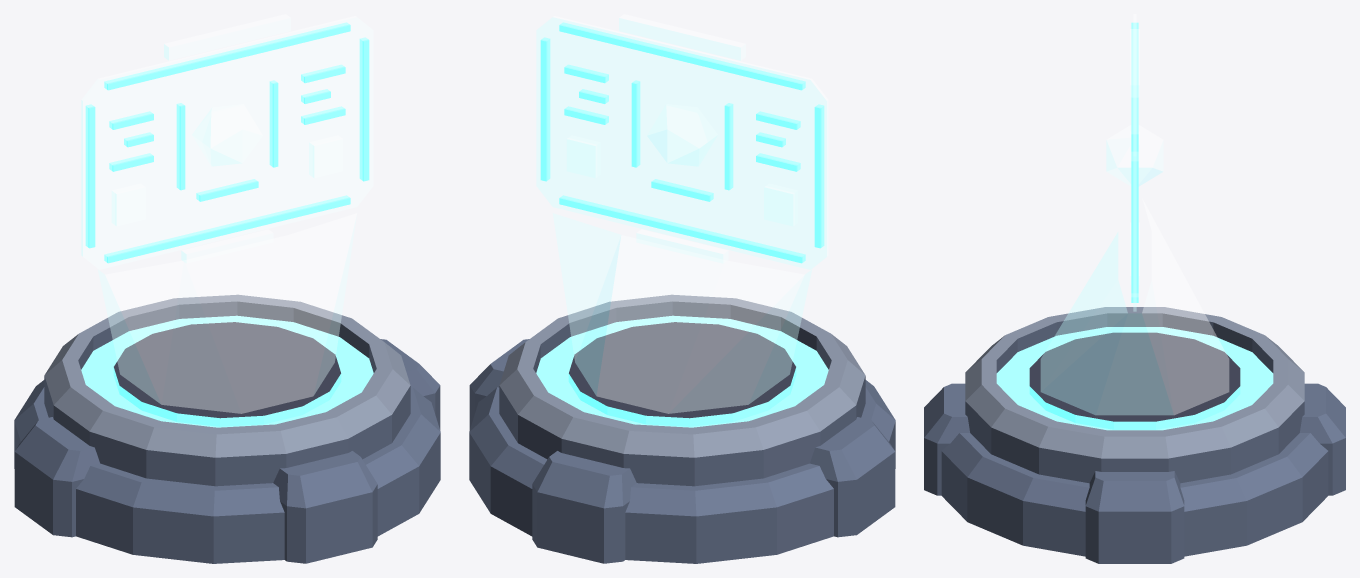
Rendered from holo-pad-ead662.glb.
3 views of the same model, side by side, from view 1: azimuth 30°, elevation 25°; view 2: azimuth 150°, elevation 25°; view 3: azimuth 270°, elevation 25° (orthographic). The views are drawn at different scales.
Parts seen in each view (by area): view 1: casing, hologram-mesh, beam, hologram-lines, glow-ring; view 2: casing, hologram-mesh, beam, hologram-lines, glow-ring; view 3: casing, beam, glow-ring, hologram-mesh, hologram-lines.
Part boxes in pixels (x1=…): casing: x1=14, y1=294, x2=440, y2=563; hologram-mesh: x1=81, y1=14, x2=373, y2=269; beam: x1=98, y1=213, x2=356, y2=413; hologram-lines: x1=85, y1=22, x2=369, y2=263; glow-ring: x1=81, y1=315, x2=373, y2=427; casing: x1=469, y1=294, x2=895, y2=563; hologram-mesh: x1=536, y1=14, x2=828, y2=269; beam: x1=553, y1=213, x2=811, y2=413; hologram-lines: x1=540, y1=22, x2=824, y2=263; glow-ring: x1=536, y1=315, x2=828, y2=427; casing: x1=924, y1=307, x2=1345, y2=563; beam: x1=1041, y1=199, x2=1228, y2=414; glow-ring: x1=996, y1=327, x2=1273, y2=430; hologram-mesh: x1=1106, y1=14, x2=1163, y2=311; hologram-lines: x1=1131, y1=22, x2=1138, y2=302.
Size of the model in its own units: 0.512 by 0.5596 by 0.512.
